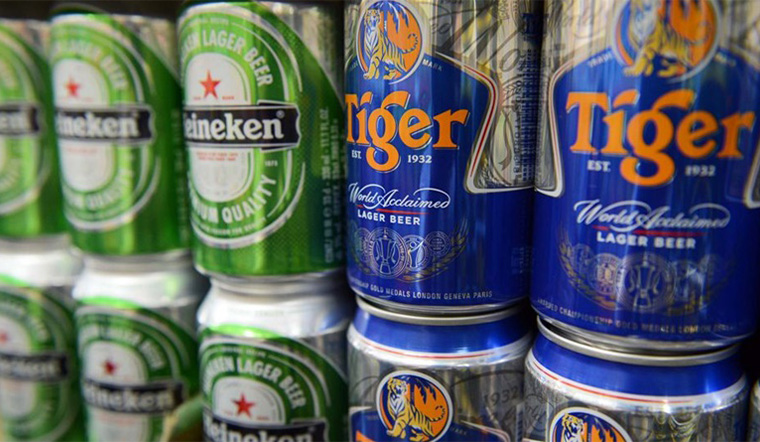heineken: (181, 110, 282, 143), (81, 382, 173, 414), (54, 109, 137, 141)
tiger: (563, 86, 754, 185), (343, 89, 471, 173)
